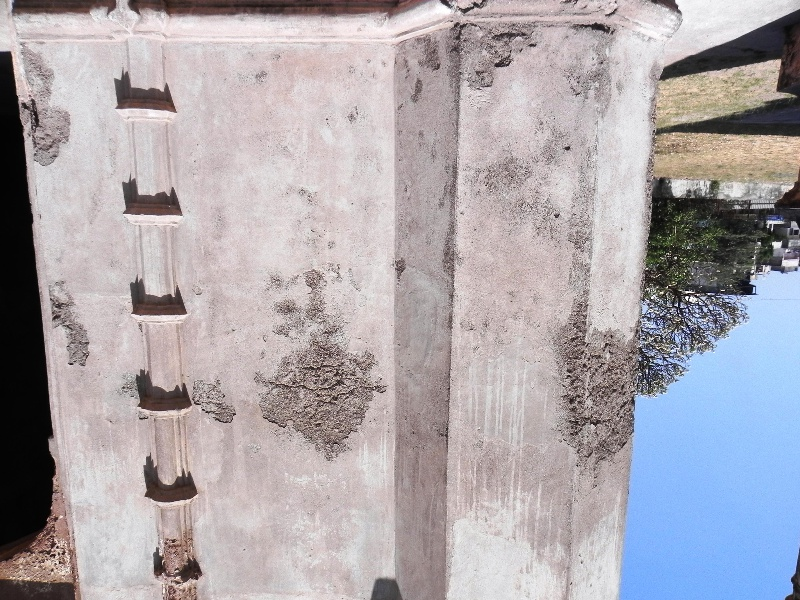Spalling: (245, 292, 388, 465), (556, 296, 638, 482), (442, 1, 538, 90), (20, 48, 81, 172), (39, 273, 95, 374), (190, 373, 236, 425)
